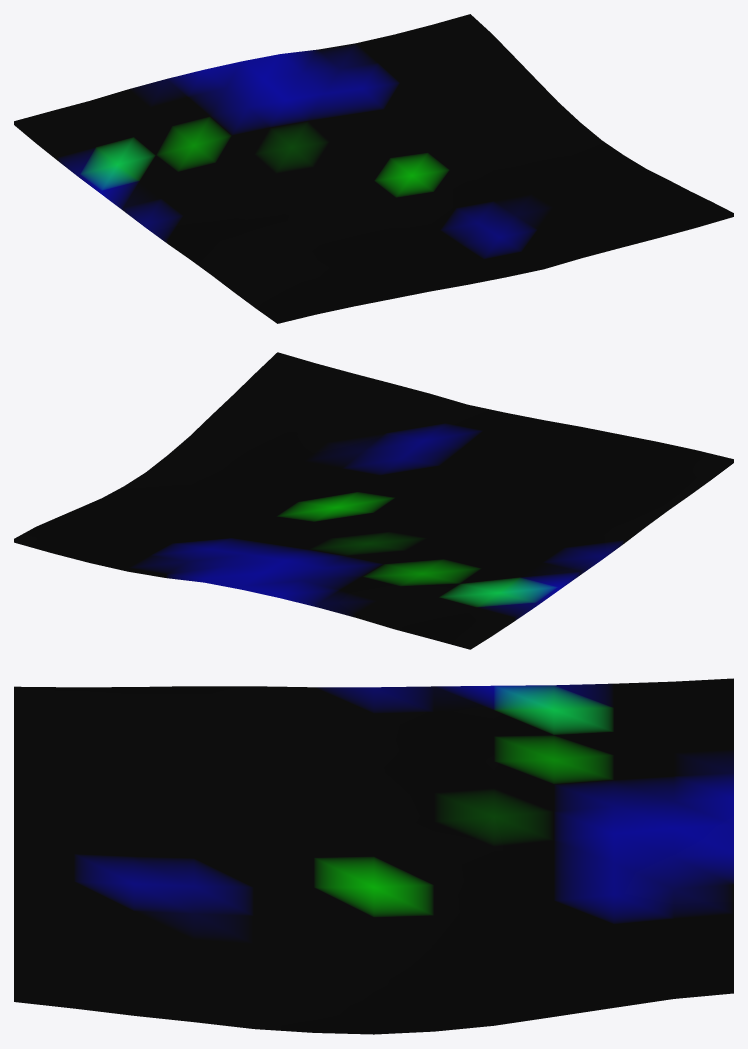
Rendered from coast_4_2.glb.
3 renders of one model, top to bottom at view 1: azimuth 30°, elevation 25°; view 2: azimuth 150°, elevation 25°; view 3: azimuth 270°, elevation 25°, orthographic. The views are drawn at different scales.
Visible parts, largest first — view 1: terrain; view 2: terrain; view 3: terrain.
Boxes of the visible parts, bbox=[...] form: terrain: bbox=[14, 14, 733, 323]; terrain: bbox=[14, 352, 733, 649]; terrain: bbox=[14, 678, 733, 1034].
Size of the model in its own units: 192 by 17.31 by 192.
